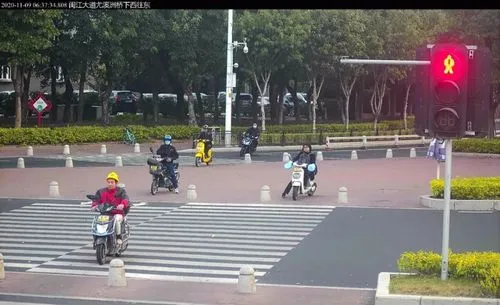camera: (243, 43, 249, 53)
motorcycle: (88, 194, 132, 263), (146, 148, 180, 195), (290, 158, 317, 201), (194, 139, 214, 167), (240, 132, 258, 156)
person: (89, 171, 129, 246), (282, 145, 316, 198), (158, 135, 179, 189), (197, 125, 213, 158), (245, 123, 258, 155)
traffic light: (424, 44, 471, 141)
